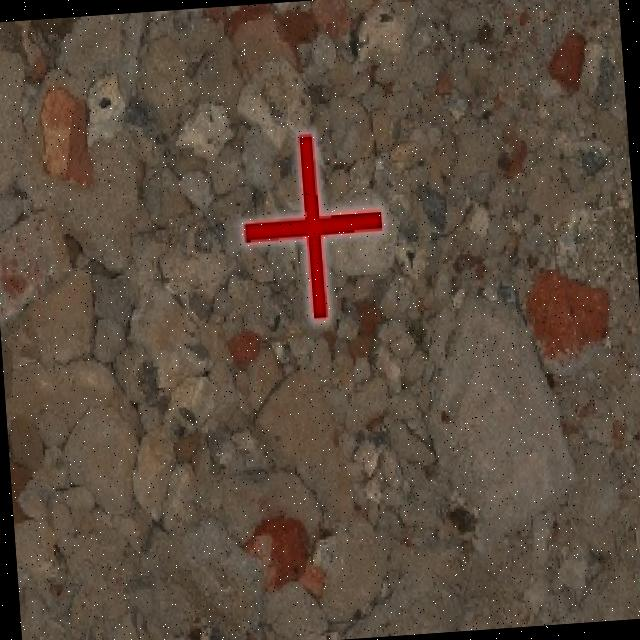x_marker: (236, 128, 387, 324)
